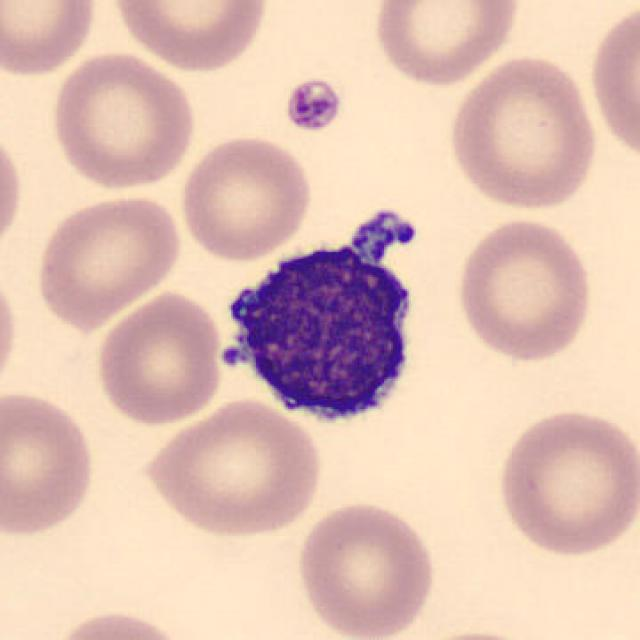Lymphocyte: (208, 196, 428, 440)
Platelets: (281, 76, 345, 134)
RBC: (137, 395, 329, 539), (442, 51, 602, 213), (492, 404, 638, 559), (452, 213, 598, 365), (46, 49, 198, 192), (32, 189, 185, 328), (293, 497, 439, 640), (92, 287, 228, 428), (176, 132, 315, 263), (0, 386, 100, 541), (368, 0, 524, 88), (107, 0, 272, 74), (586, 0, 638, 169), (0, 0, 101, 79), (44, 606, 193, 640), (0, 118, 27, 263), (0, 259, 23, 402)
